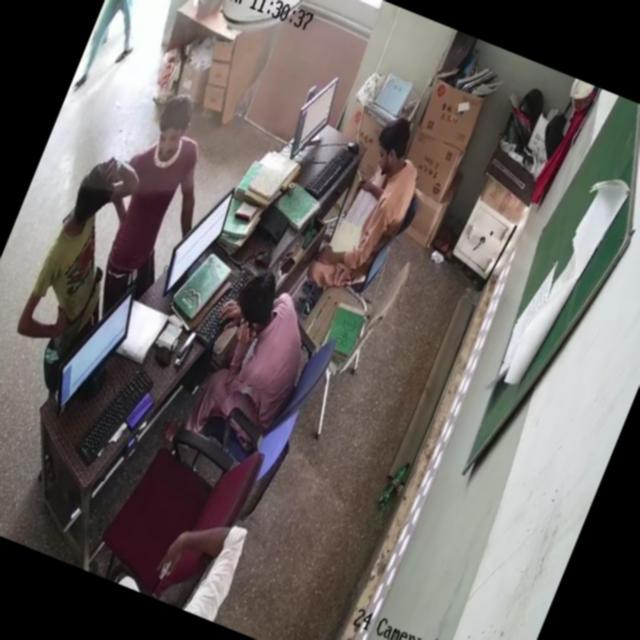person: (96, 117, 218, 309), (26, 175, 141, 342), (322, 114, 432, 288), (205, 267, 324, 419), (78, 0, 175, 82)
